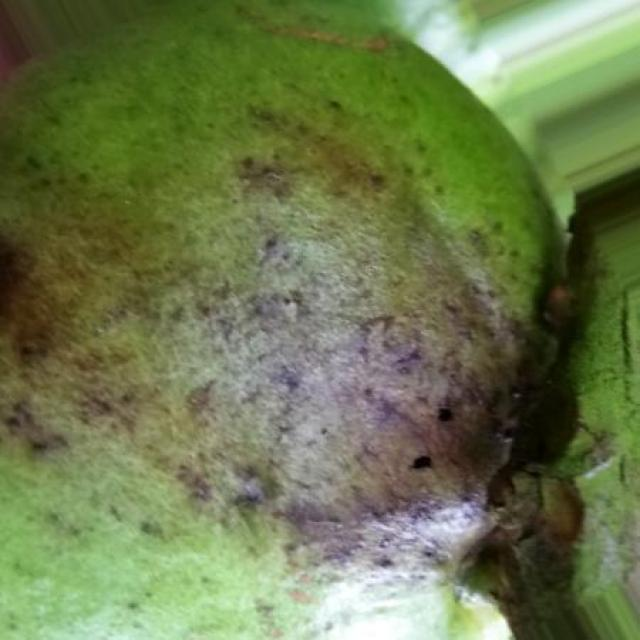Phytopthora: (0, 109, 525, 568)
